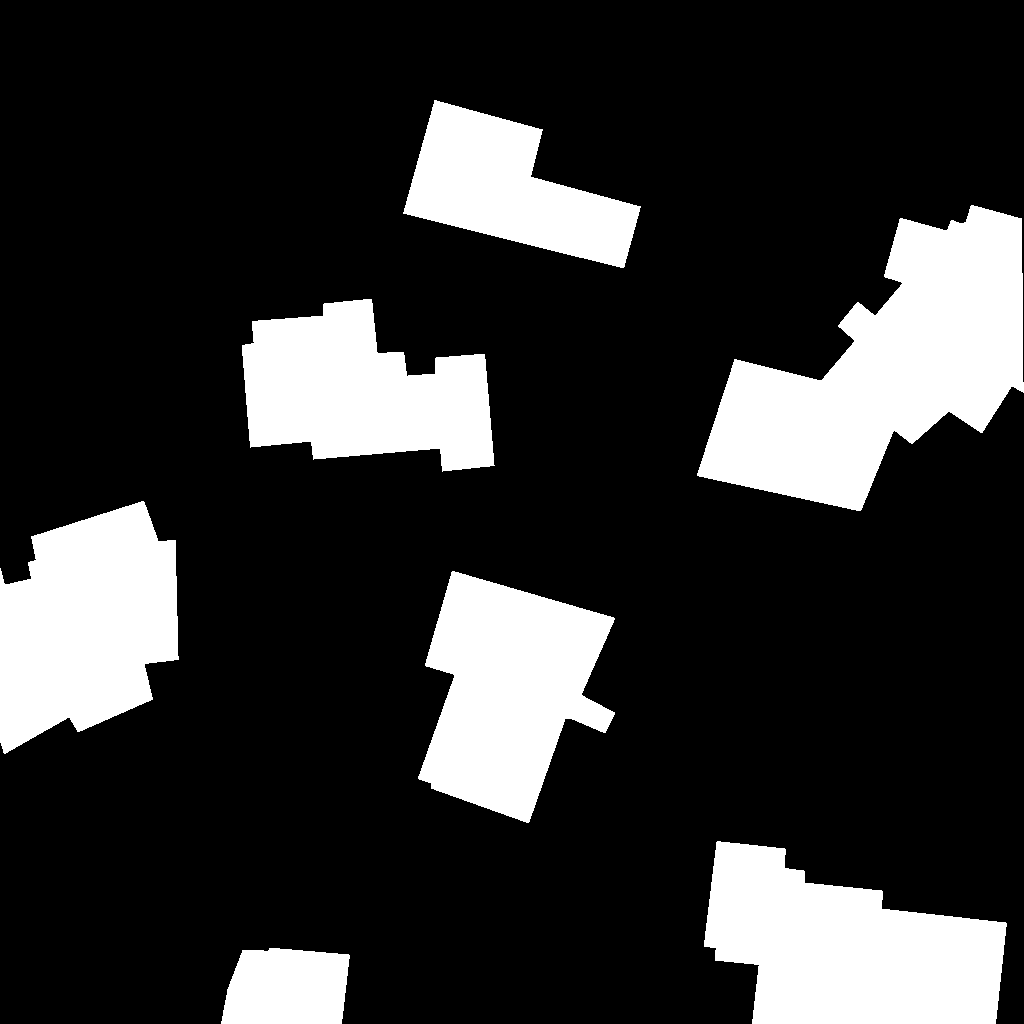building: (697, 205, 1024, 512), (704, 841, 1008, 1024), (418, 571, 616, 824), (0, 501, 179, 755), (242, 299, 495, 472), (403, 100, 642, 269), (221, 948, 351, 1024)
